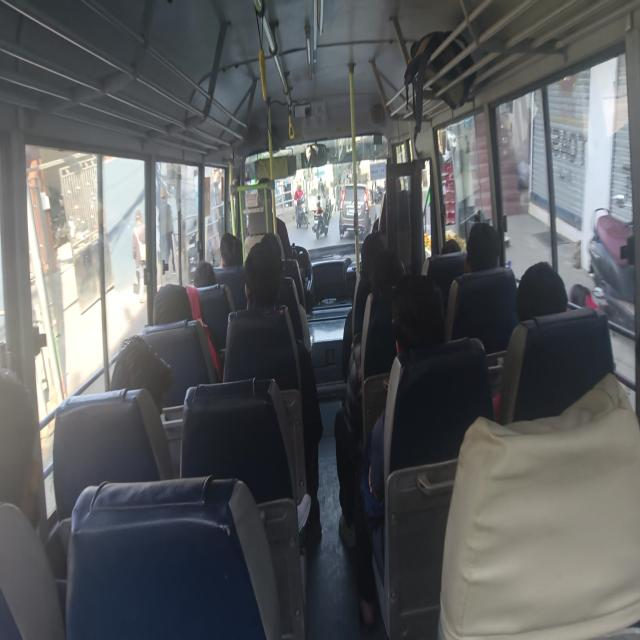person: (0, 387, 60, 589), (118, 342, 184, 428), (516, 244, 570, 324), (247, 238, 291, 317), (461, 224, 514, 288), (405, 291, 453, 359), (353, 231, 395, 291), (160, 281, 200, 336), (374, 270, 416, 322), (196, 257, 223, 306), (259, 224, 284, 268), (221, 222, 249, 261), (442, 231, 468, 264)
